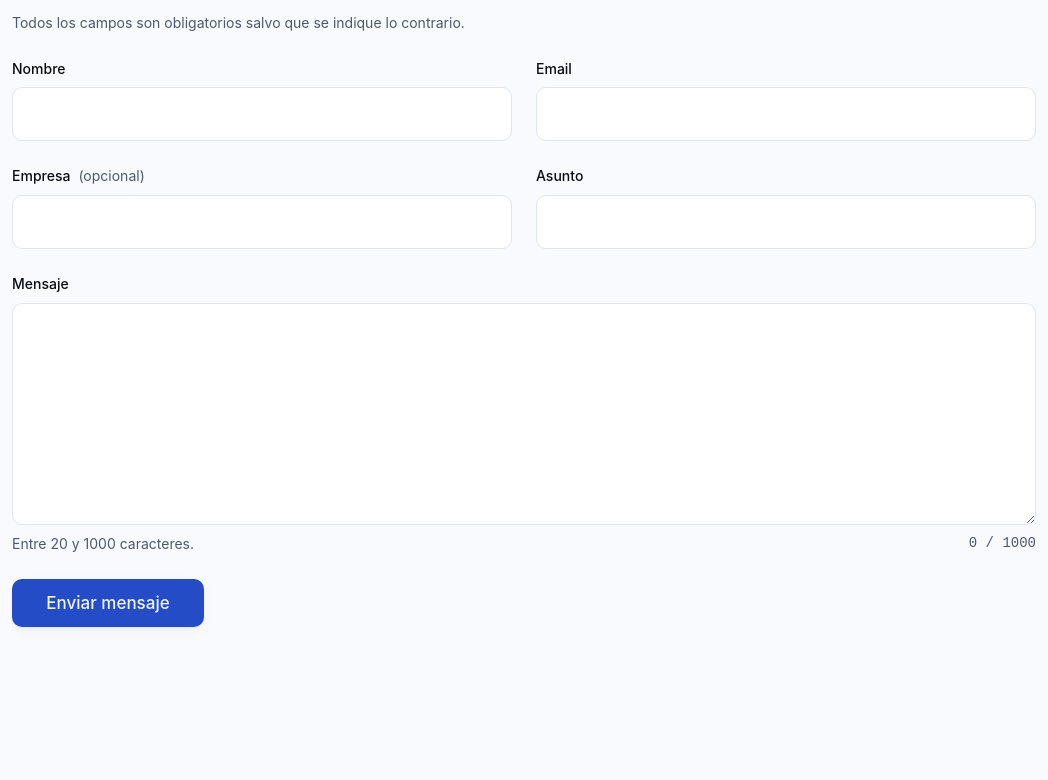
Test case: ContactForm › shows every error on submit, focuses the first invalid field and doesn't send
Click the button "Enviar mensaje" at (108, 603), box [12, 579, 204, 627]
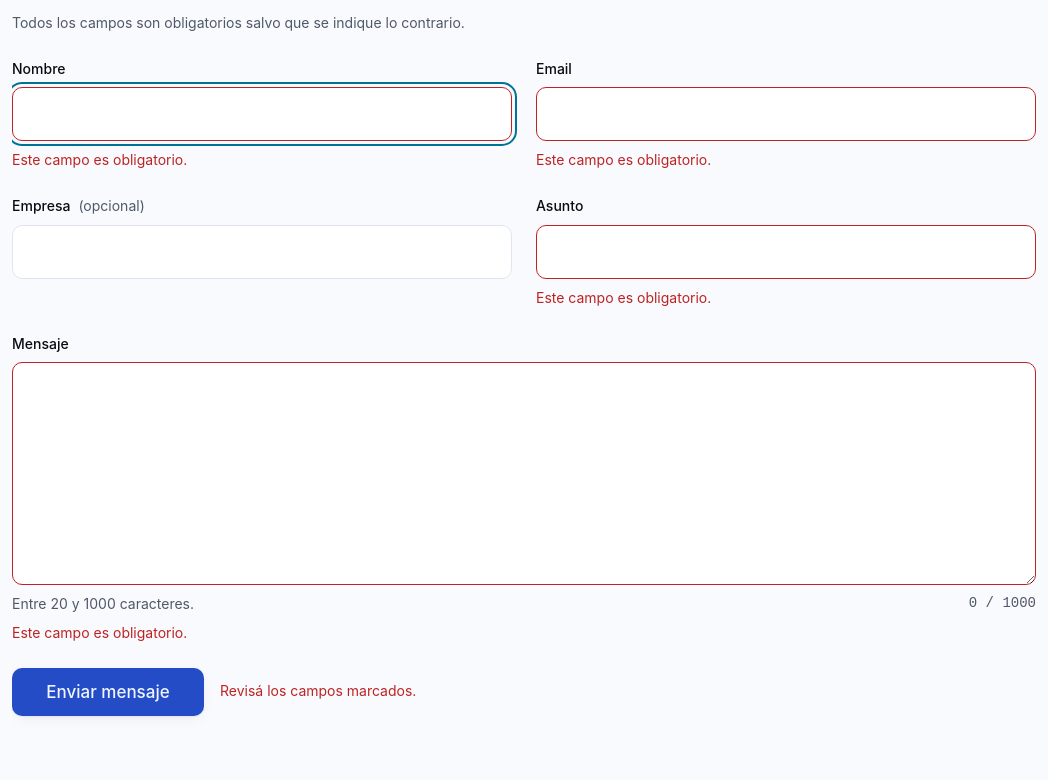
Expected: the text "Este campo es obligatorio." is shown 4 times, [12, 151, 187, 168]; [536, 151, 711, 168]; [536, 289, 711, 306]; [12, 624, 187, 641]
Expected: the text "Revisá los campos marcados." is shown, [220, 680, 416, 702]
